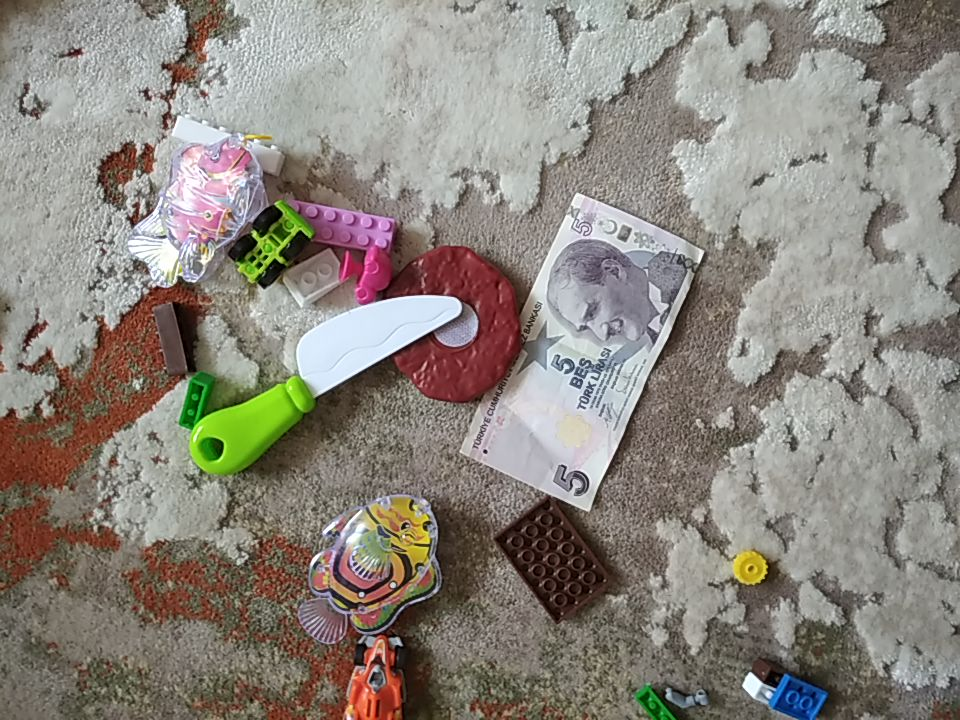5TL: (458, 190, 703, 514)
